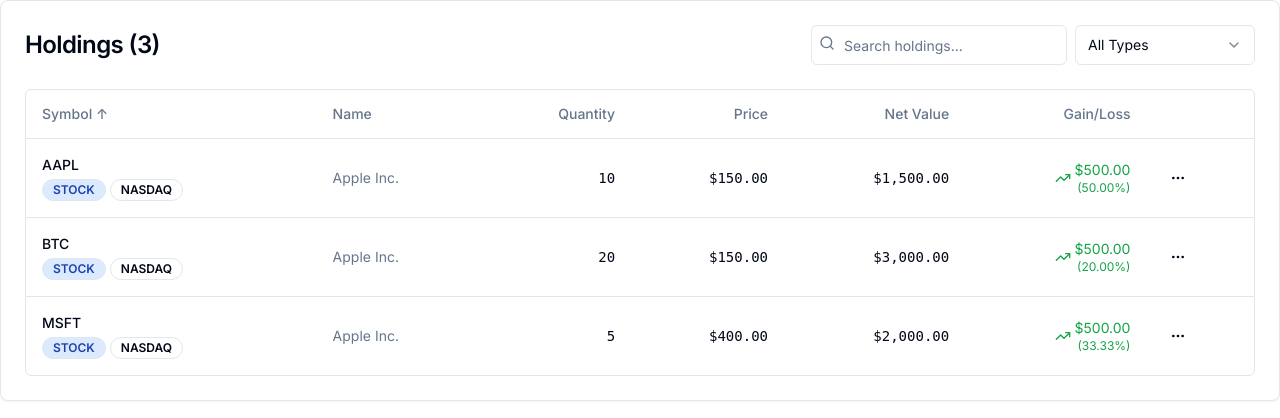
it: HoldingsTable › Sorting › should toggle sort direction on column click
Click to toggle to desc
Click the column heading "Symbol ↑" at [67, 113], box [26,90,317,138]
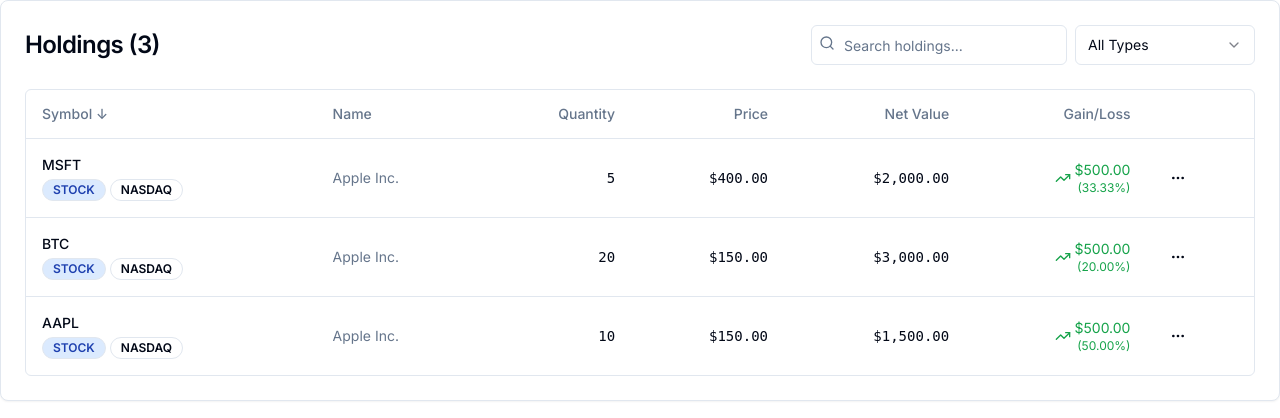
Check: the row that starts with "MSFT" is shown, box [42,156,81,172]
Check: the column heading "Symbol ↓" is shown, box [26,90,317,138]
